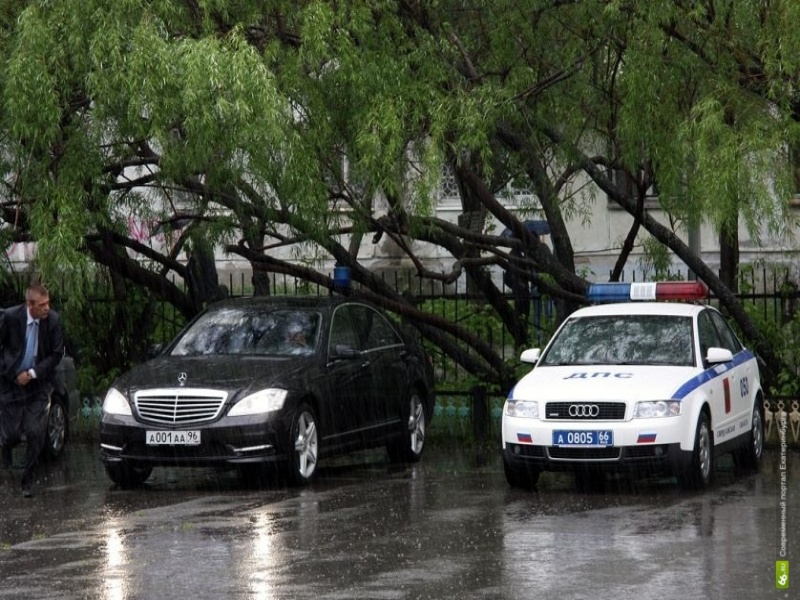car: (97, 295, 436, 484), (501, 300, 766, 486)
person: (1, 286, 65, 501)
plate: (552, 430, 614, 444), (146, 430, 199, 443)
